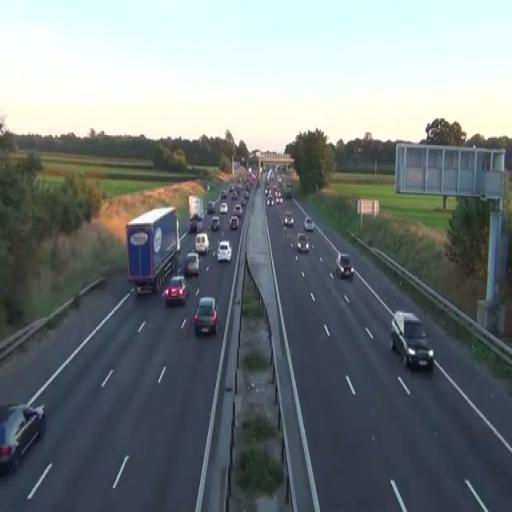Car: (0, 402, 46, 474), (194, 296, 218, 336), (164, 275, 186, 307), (335, 252, 354, 280), (185, 252, 200, 276), (195, 232, 210, 254), (218, 240, 232, 263), (297, 232, 309, 252), (284, 211, 294, 227), (304, 217, 314, 232), (211, 216, 220, 232), (229, 216, 239, 230)
Truck: (126, 206, 180, 296), (390, 312, 434, 371)
